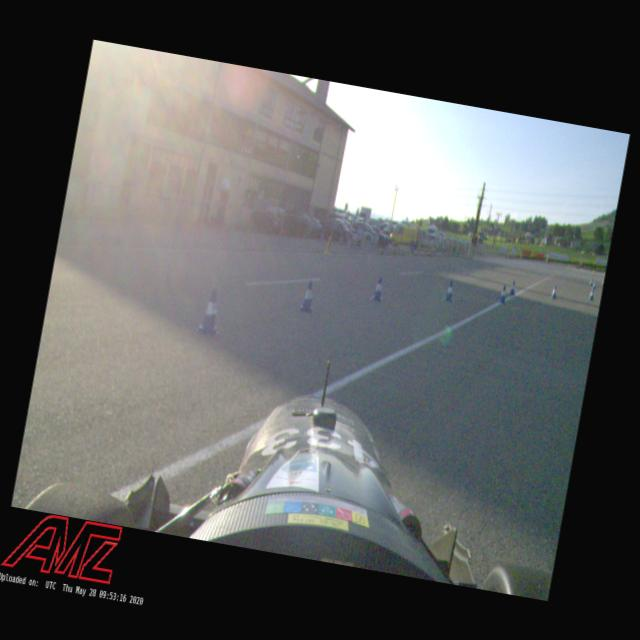blue_cone: (196, 287, 224, 338), (298, 278, 318, 314), (370, 274, 386, 302), (444, 279, 456, 303), (498, 284, 508, 304), (508, 279, 517, 296), (550, 284, 559, 300), (588, 288, 596, 302), (588, 278, 593, 286), (592, 280, 596, 289), (600, 278, 604, 286)
yellow_cone: (322, 234, 333, 256)
